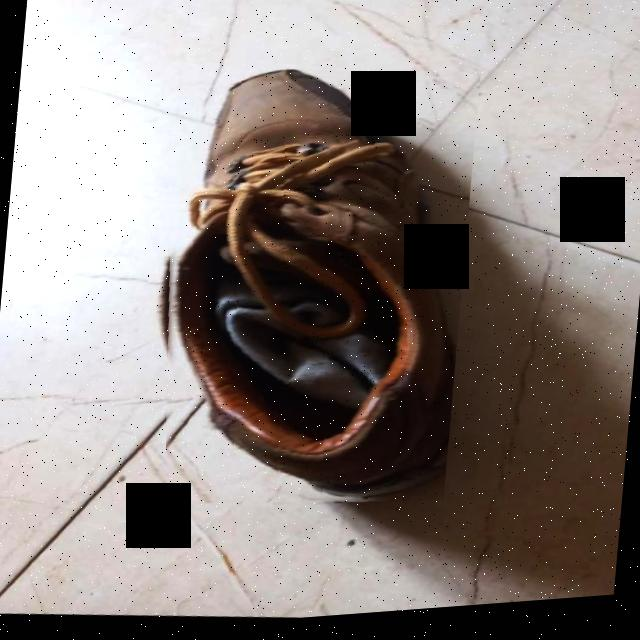shoe: (136, 52, 481, 532)
